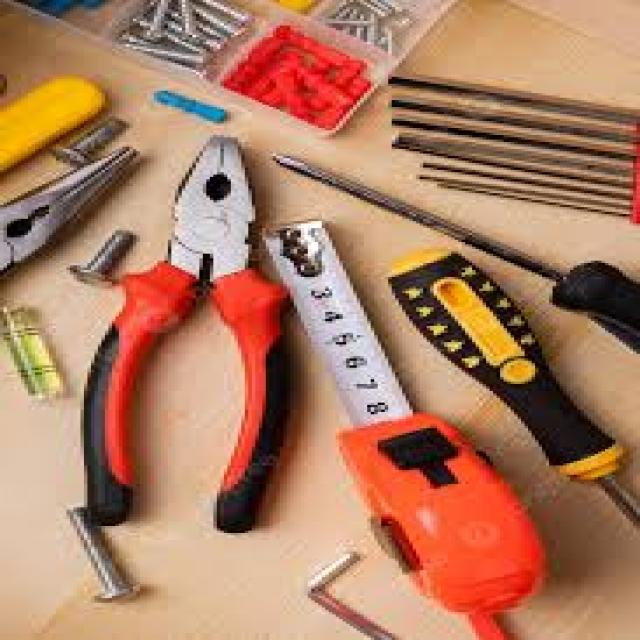screwdriver: (270, 151, 640, 356)
